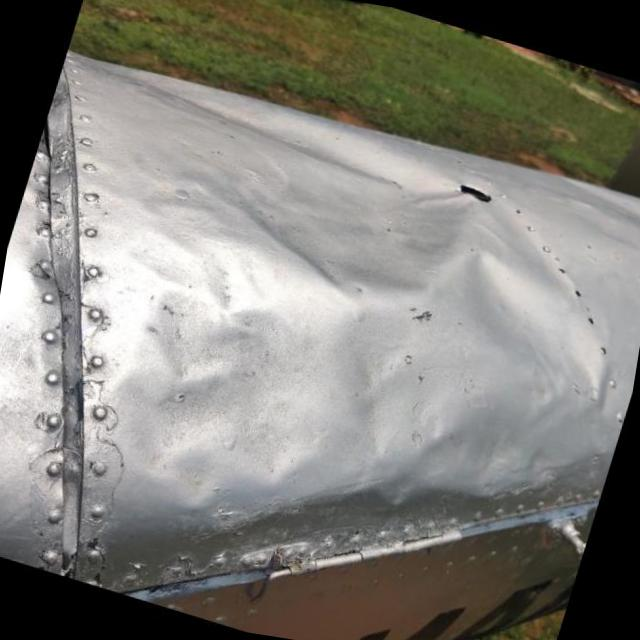dent: (97, 245, 366, 527), (169, 123, 501, 342), (443, 215, 640, 432), (104, 61, 390, 170), (315, 336, 477, 458), (567, 183, 640, 233)
